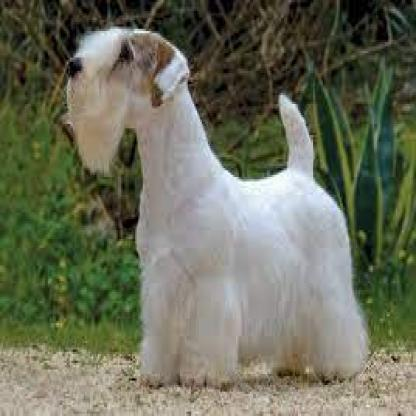Sealyham terrier: (57, 15, 379, 393)
